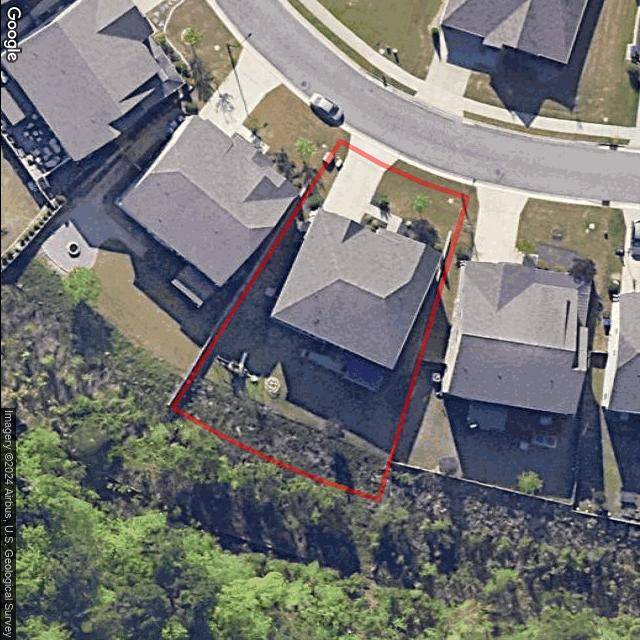Driveway: (321, 146, 387, 224)
Extra-Driveway: (349, 133, 397, 168)
Extra-Lawn: (389, 160, 470, 199), (339, 130, 349, 146)
House: (269, 208, 442, 371)
Lawn: (171, 143, 465, 501)
Other: (172, 376, 389, 501), (298, 346, 388, 392), (213, 348, 287, 403), (396, 216, 438, 247), (358, 213, 387, 233)
Sidewalk: (365, 204, 402, 232)
